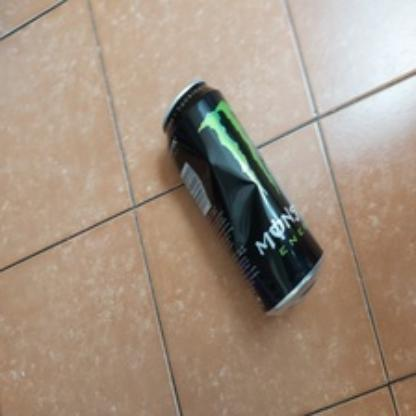Can: (162, 78, 323, 314)
